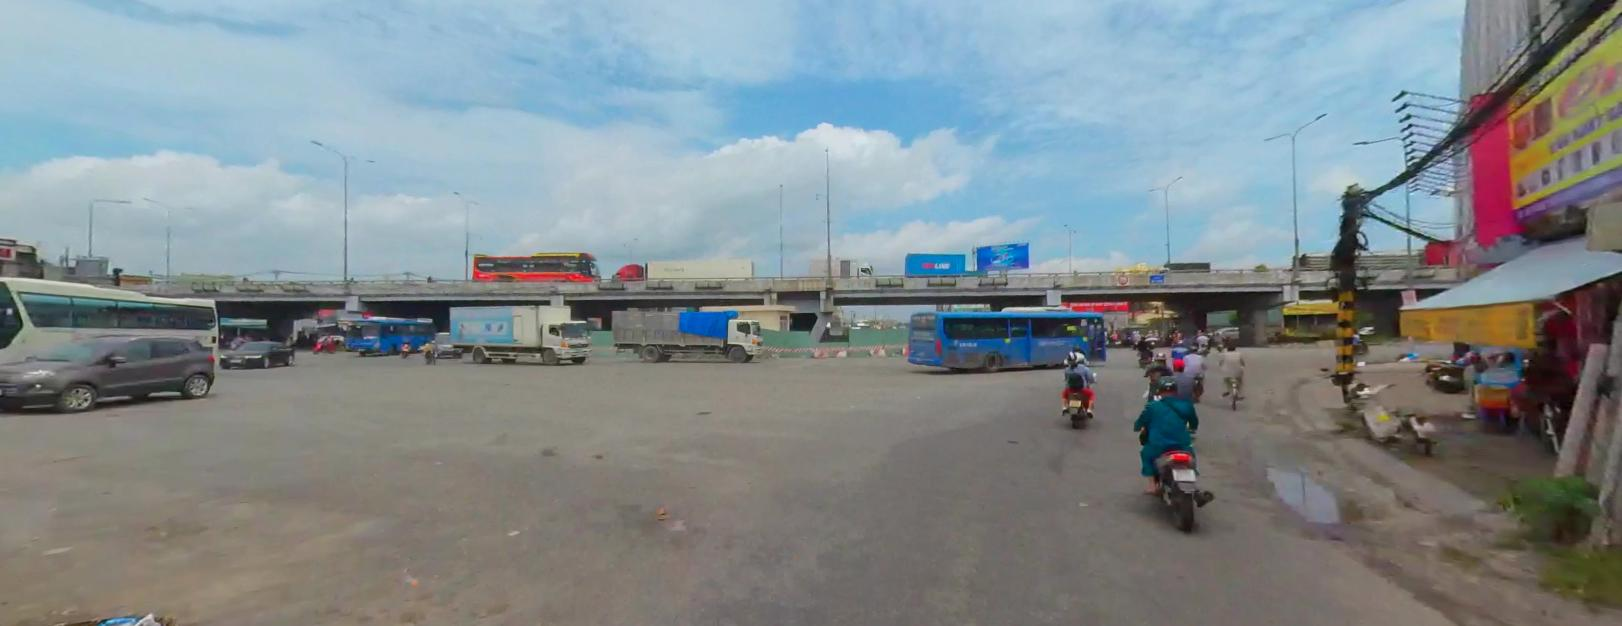Cam con lai: (1117, 272, 1128, 284)
